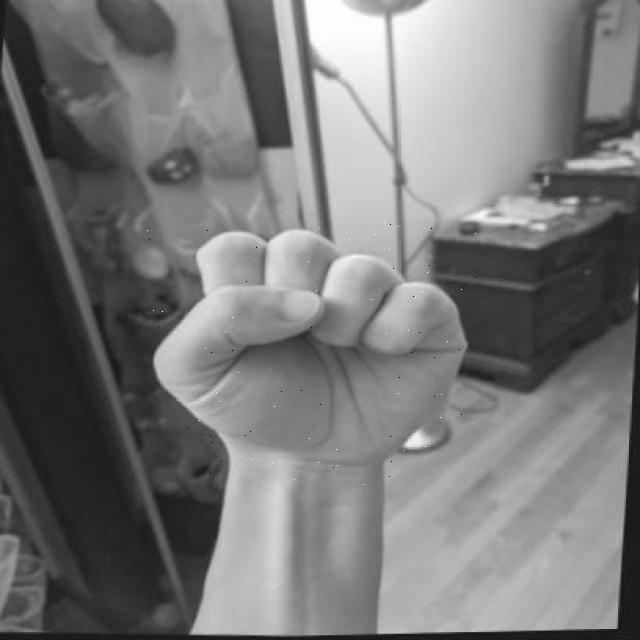S: (143, 220, 486, 485)
